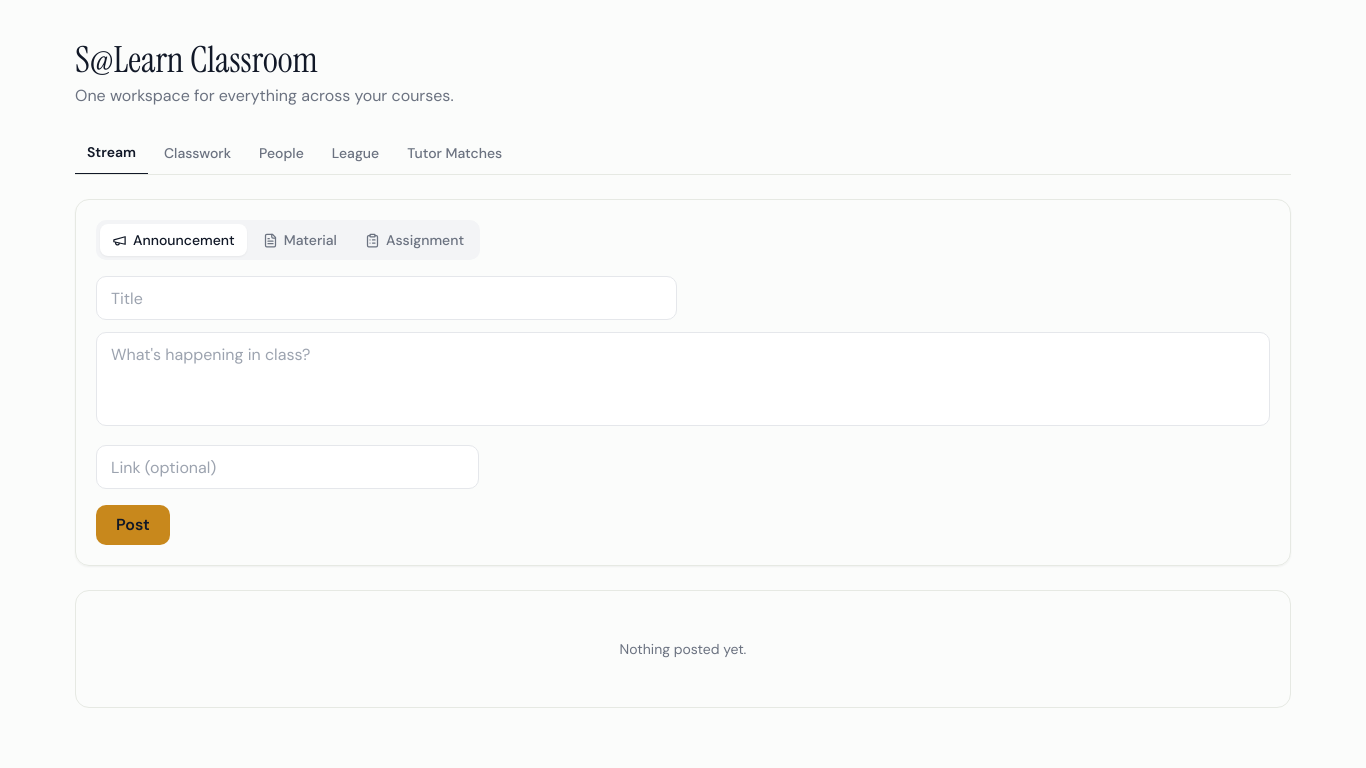
Test: SLearnClassroom › League section renders without crashing
Expected: the heading "S@Learn Classroom" is shown, [75,36,318,83]
What coordinates should you click on to do the following:
click the button "League"
I would click on:
 (356, 153)
Its box is [320,132,391,174].
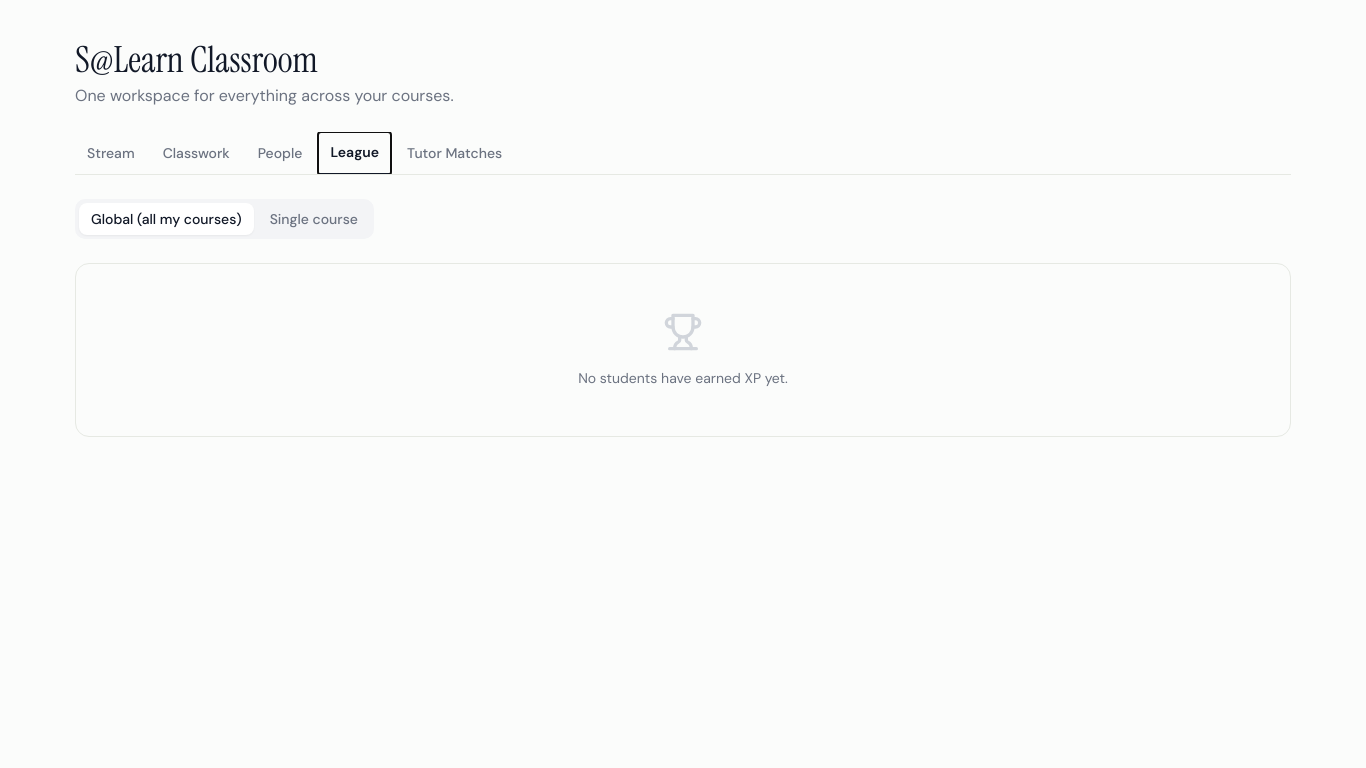
Result: the button "Global (all my courses)" is shown at [79,203,254,235]
